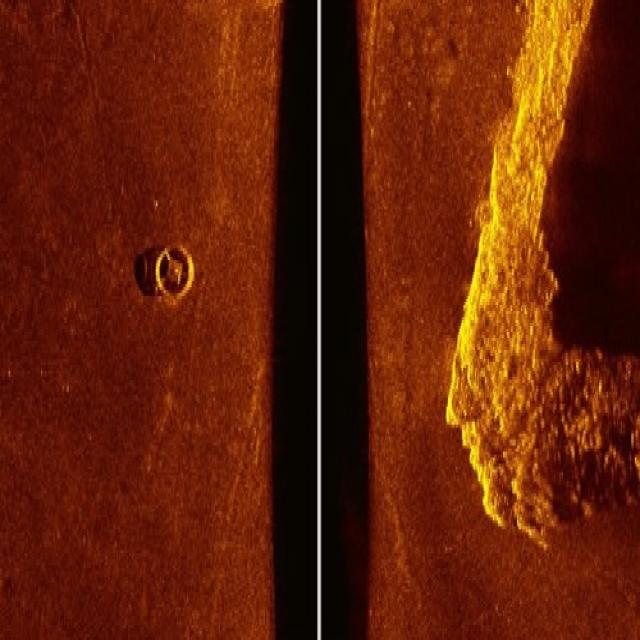other: (430, 18, 632, 544), (147, 230, 197, 314)
